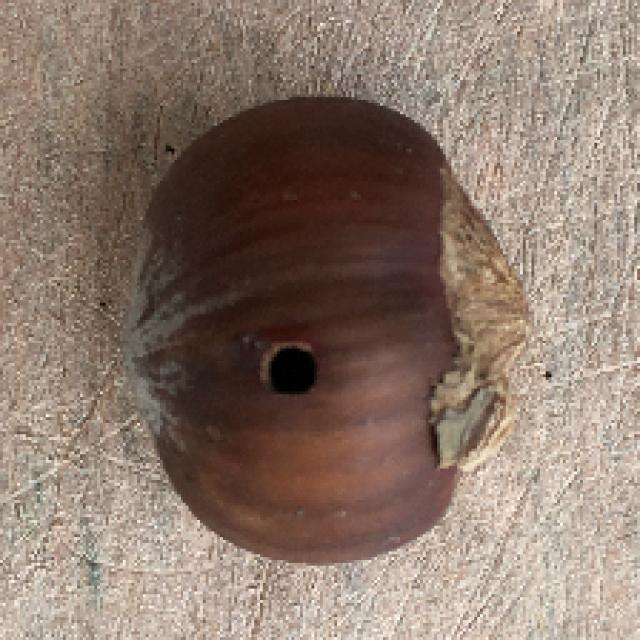damagedHazelnut: (124, 90, 546, 572)
